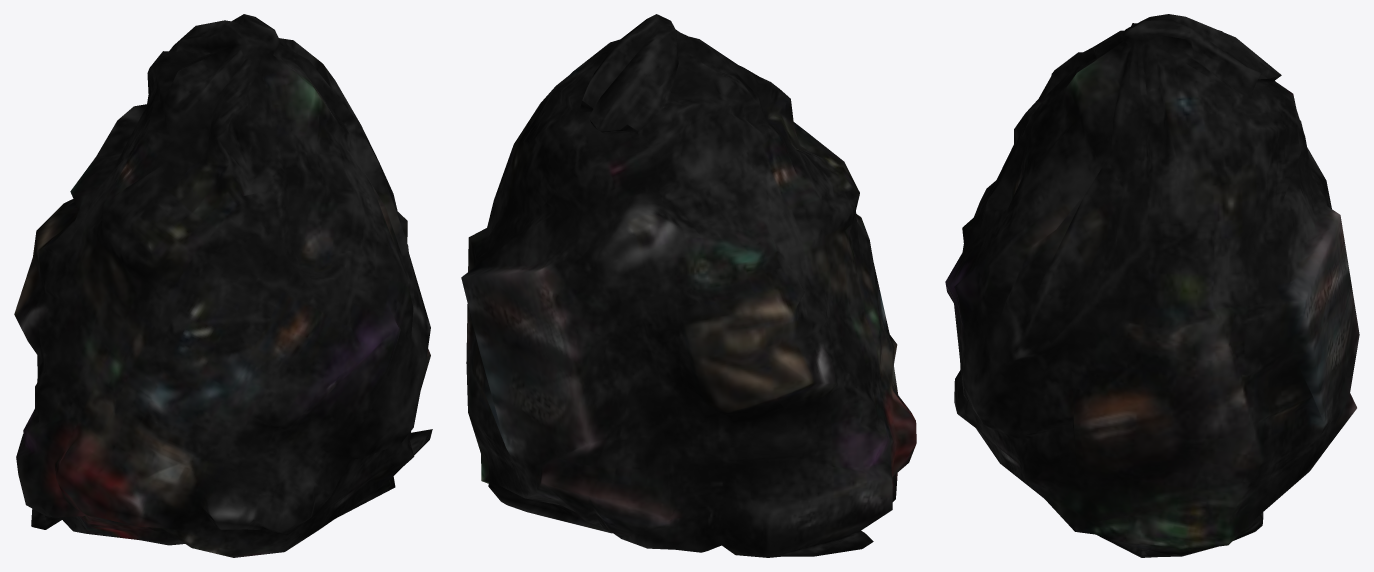
File: trash_bag.glb
The picture shows the model from 3 angles, left to right: view 1: azimuth 30°, elevation 25°; view 2: azimuth 150°, elevation 25°; view 3: azimuth 270°, elevation 25°; orthographic projection. The views are drawn at different scales.
Parts seen in each view (by area): view 1: trashbag; view 2: trashbag; view 3: trashbag.
Part boxes in pixels (x1,y1,x2,y2): trashbag: (14, 14, 432, 557); trashbag: (461, 14, 916, 557); trashbag: (945, 14, 1359, 557).
Bounding box in the file's own units: 0.5281 × 0.5725 × 0.4629.
1 material, 1 textured.
